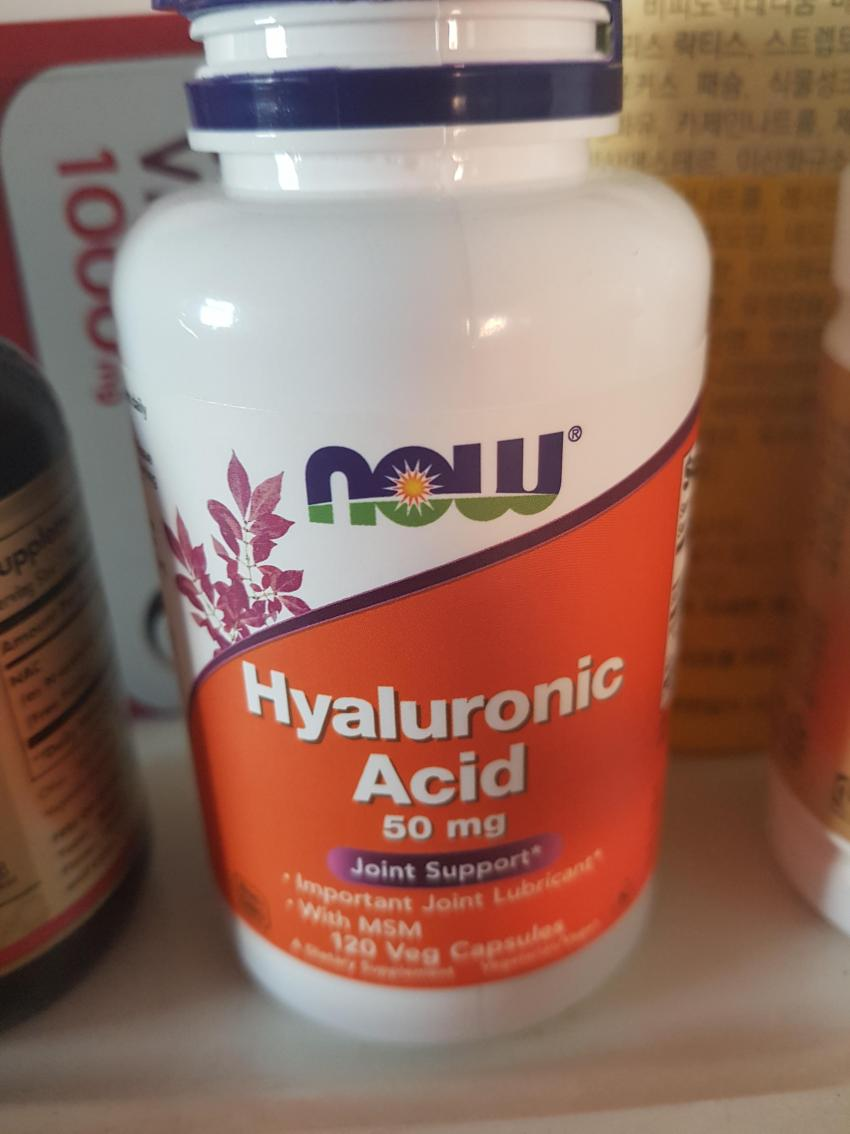supplement_label: (112, 379, 748, 1015)
